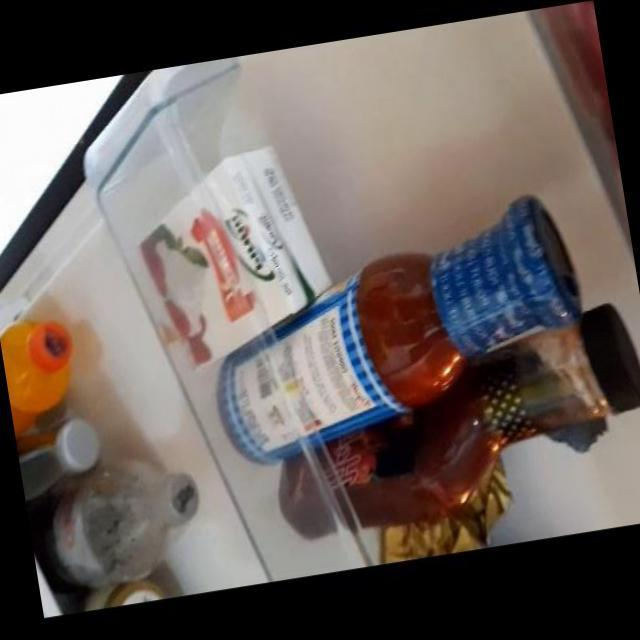cream cheese: (126, 154, 328, 361)
sauce: (213, 227, 603, 515)
